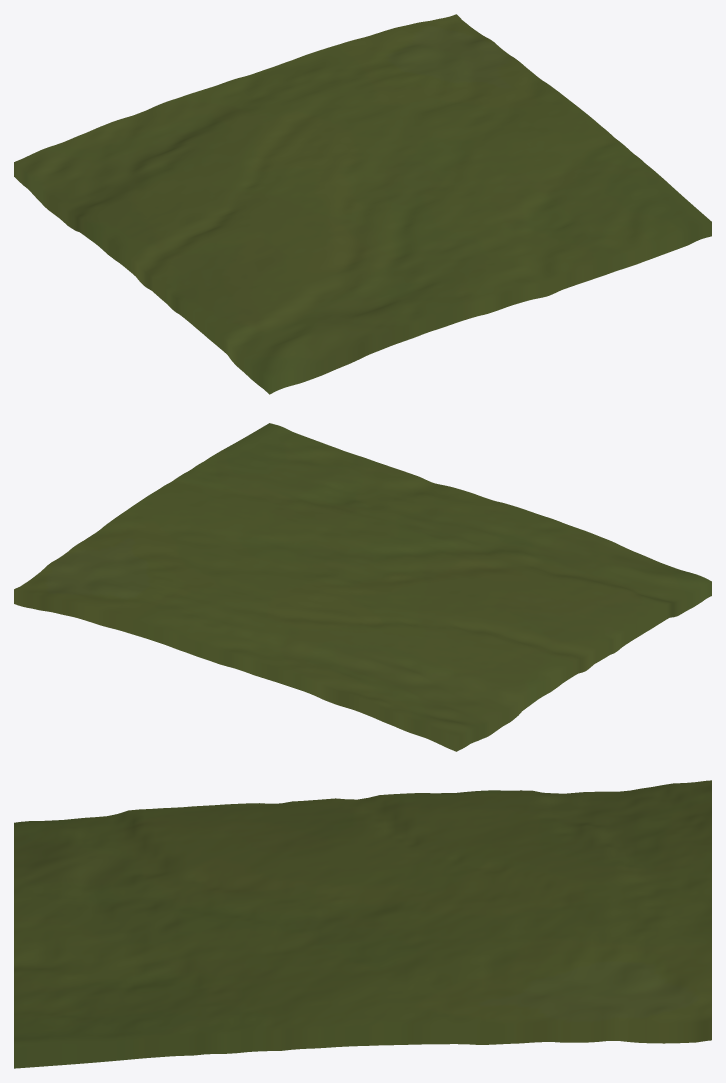
Rendered from terrain_-1_-1.glb.
3 views of the same model, one above another, from view 1: azimuth 30°, elevation 25°; view 2: azimuth 150°, elevation 25°; view 3: azimuth 270°, elevation 25° (orthographic). The views are drawn at different scales.
Parts seen in each view (by area): view 1: terrain_-1_-1; view 2: terrain_-1_-1; view 3: terrain_-1_-1.
Boxes of the visible parts, x1,y1,x2,y2 form: terrain_-1_-1: (14,14,711,394); terrain_-1_-1: (14,423,711,751); terrain_-1_-1: (14,780,711,1068).
Size of the model in its own units: 256 by 48.06 by 256.
